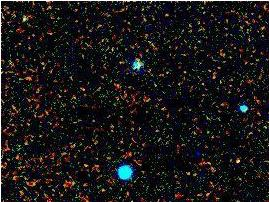star: (221, 145, 251, 175)
